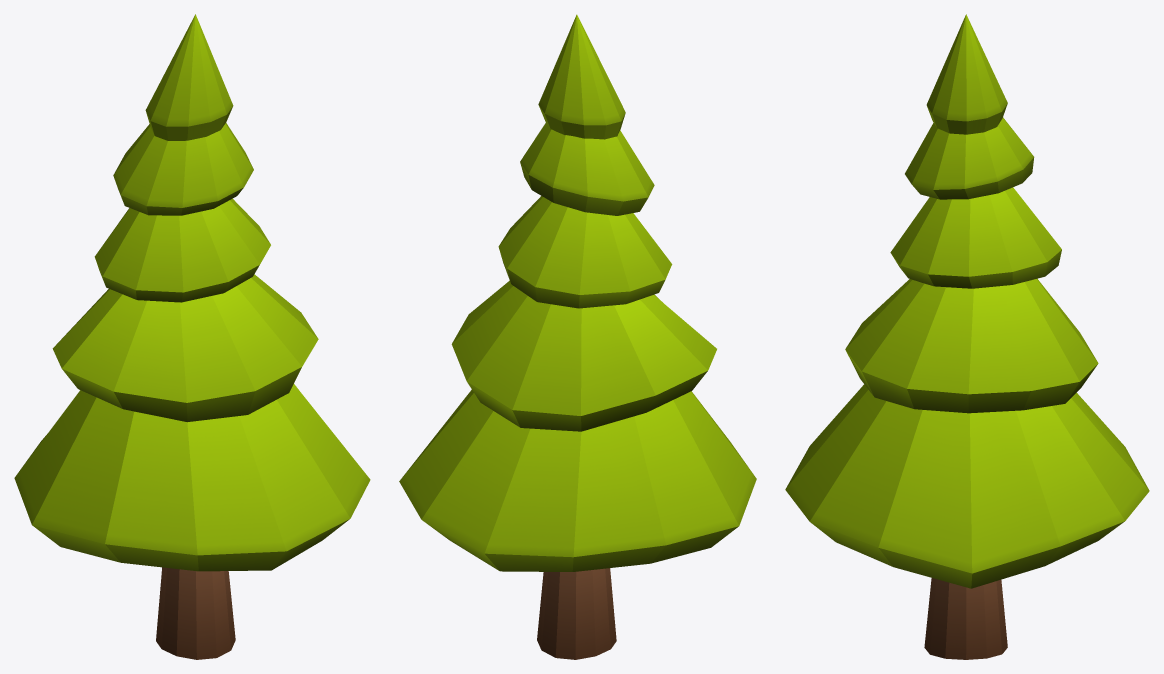
The model's file is Tree2.fbx.
The picture shows the model from 3 angles, left to right: view 1: azimuth 30°, elevation 25°; view 2: azimuth 150°, elevation 25°; view 3: azimuth 270°, elevation 25°; orthographic projection.
Visible parts, largest first — view 1: Cube.042; view 2: Cube.042; view 3: Cube.042.
Part boxes in pixels (left/top/right/bottom): Cube.042: left=14, top=14, right=370, bottom=659; Cube.042: left=399, top=14, right=756, bottom=659; Cube.042: left=785, top=14, right=1149, bottom=659.
Bounding box in the file's own units: 1122 × 2116 × 1104.
1 material, 1 textured.
